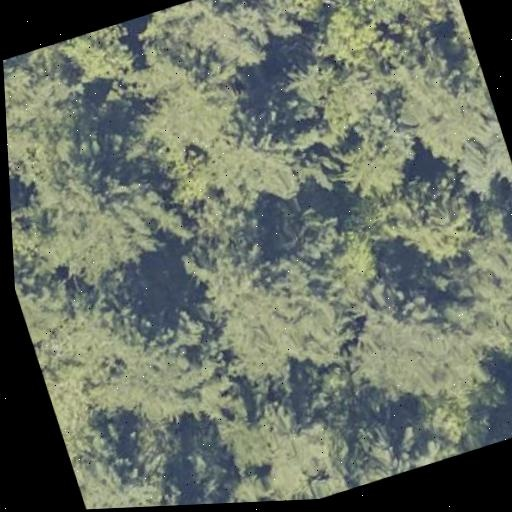tree-top: (172, 207, 357, 397), (25, 153, 185, 301), (333, 272, 488, 418), (203, 381, 363, 504), (84, 311, 227, 438), (119, 29, 247, 156), (195, 94, 326, 216), (377, 42, 494, 174), (361, 160, 486, 276), (67, 265, 177, 374), (21, 121, 134, 227), (2, 44, 85, 172), (181, 0, 307, 82), (325, 115, 426, 211), (441, 232, 512, 365), (307, 0, 403, 91), (71, 426, 160, 510), (58, 19, 147, 90), (274, 51, 345, 125), (349, 413, 422, 483), (124, 462, 220, 508), (410, 389, 472, 450)
